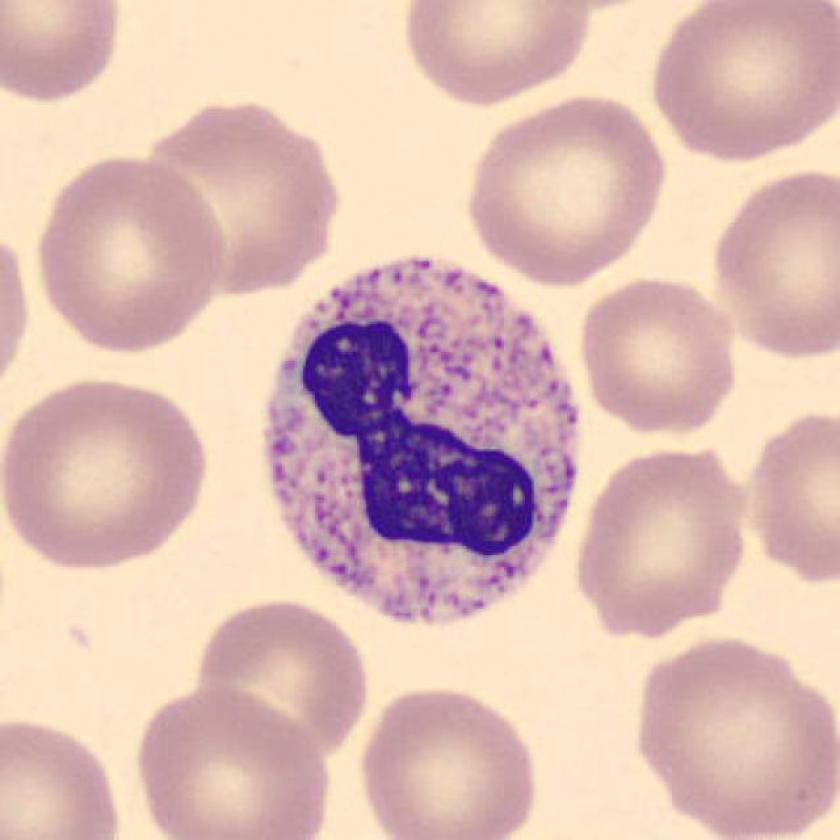neutrophil: (262, 258, 584, 630)
